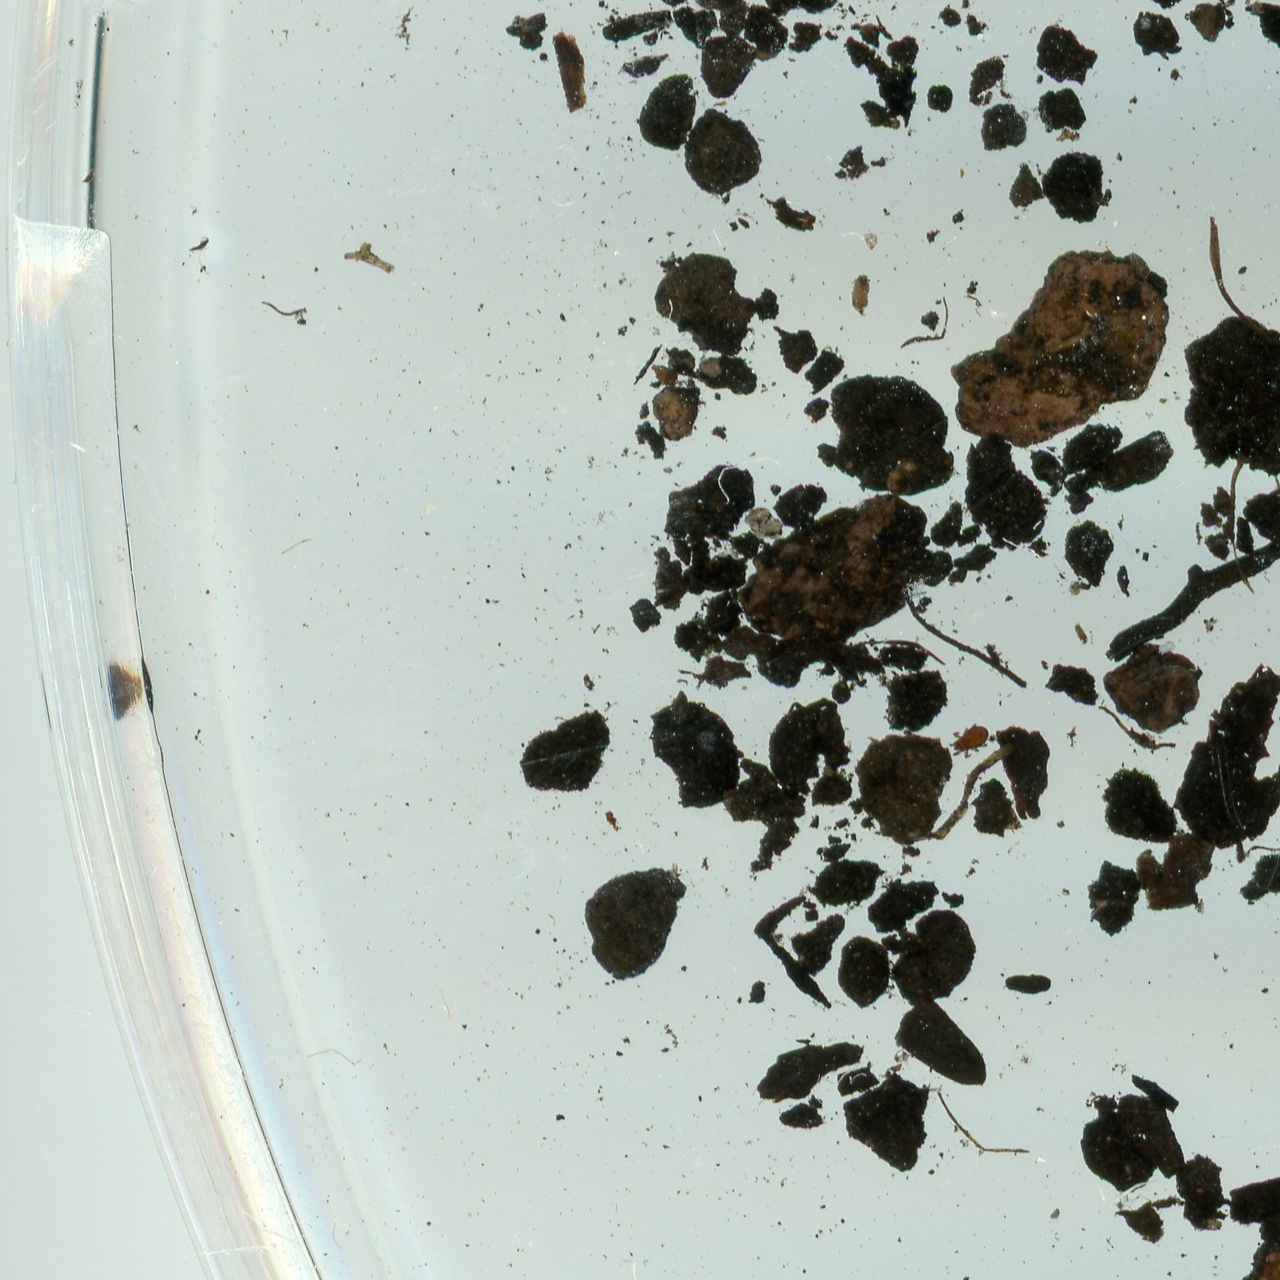arthropod: (940, 714, 997, 767)
